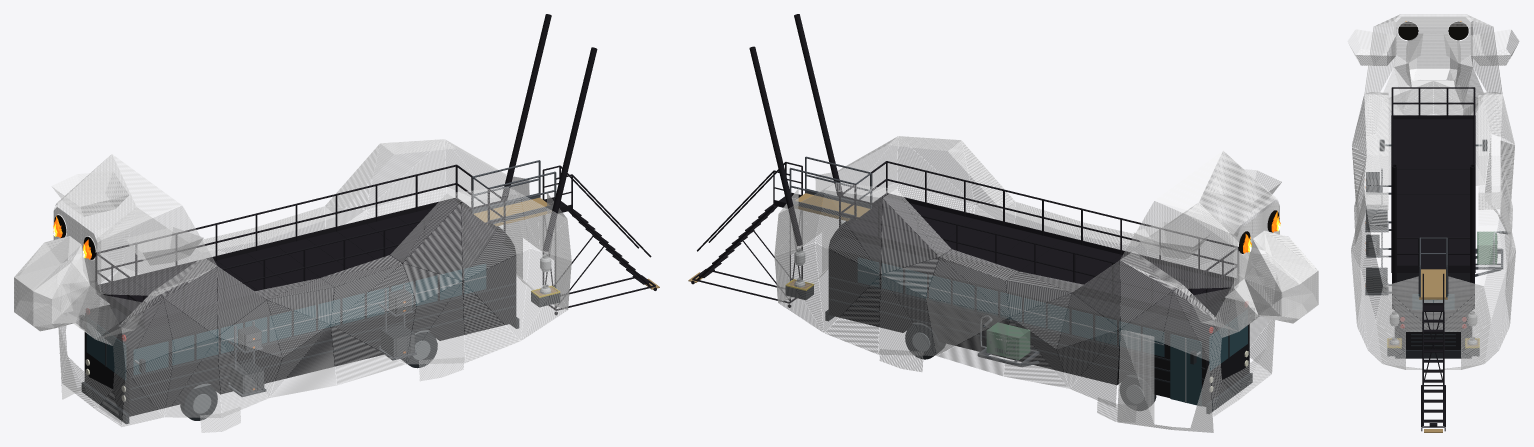
Rendered from baaabs-panelized-v19.glb.
The picture shows the model from 3 angles, left to right: view 1: azimuth 30°, elevation 25°; view 2: azimuth 150°, elevation 25°; view 3: azimuth 270°, elevation 25°; orthographic projection. The views are drawn at different scales.
Parts seen in each view (by area): view 1: Bus__Body_96in_wide, H-D-001 | Driver continuous side, H-C-002 | Center continuous rising crown, H-P-001 | Passenger continuous side, B-D-054 | Driver Skirt 07 b, B-D-050 | Driver Skirt 05 b, B-D-051 | Driver Skirt 06 a, B-D-043 | Driver Skirt 02 a, B-D-038 | Driver Flank 07 b, B-D-036 | Driver Flank 06 b, B-D-053 | Driver Skirt 07 a, B-D-049 | Driver Skirt 05 a (+74 smaller); view 2: Bus__Body_96in_wide, H-P-001 | Passenger continuous side, H-C-002 | Center continuous rising crown, H-D-001 | Driver continuous side, B-P-062 | Passenger Skirt 07 b, B-P-058 | Passenger Skirt 05 b, B-P-059 | Passenger Skirt 06 a, B-P-044 | Passenger Flank 06 b, B-P-046 | Passenger Flank 07 b, B-P-061 | Passenger Skirt 07 a, B-P-057 | Passenger Skirt 05 a, B-P-055 | Passenger Skirt 04 a (+73 smaller); view 3: Bus__Body_96in_wide, H-D-001 | Driver continuous side, H-P-001 | Passenger continuous side, H-C-002 | Center continuous rising crown, Dancefloor_section_04, Bus__Rear_engine_hatch, Dancefloor_section_01, Dancefloor_section_03, Dancefloor_section_02, Dancefloor_section_06, Dancefloor_section_08, B-D-059 | Driver Rear surround 06 a (+112 smaller).
Part boxes in pixels (left/top/right/bottom): Bus__Body_96in_wide: left=84, top=243, right=516, bottom=416; H-D-001 | Driver continuous side: left=101, top=206, right=216, bottom=295; H-C-002 | Center continuous rising crown: left=57, top=154, right=181, bottom=230; H-P-001 | Passenger continuous side: left=55, top=155, right=135, bottom=254; B-D-054 | Driver Skirt 07 b: left=463, top=249, right=529, bottom=340; B-D-050 | Driver Skirt 05 b: left=331, top=305, right=416, bottom=363; B-D-051 | Driver Skirt 06 a: left=406, top=282, right=465, bottom=364; B-D-043 | Driver Skirt 02 a: left=165, top=338, right=221, bottom=417; B-D-038 | Driver Flank 07 b: left=461, top=194, right=519, bottom=279; B-D-036 | Driver Flank 06 b: left=403, top=203, right=462, bottom=280; B-D-053 | Driver Skirt 07 a: left=463, top=282, right=519, bottom=362; B-D-049 | Driver Skirt 05 a: left=331, top=325, right=404, bottom=384; Bus__Body_96in_wide: left=828, top=237, right=1249, bottom=406; H-P-001 | Passenger continuous side: left=1120, top=201, right=1233, bottom=288; H-C-002 | Center continuous rising crown: left=1154, top=151, right=1276, bottom=225; H-D-001 | Driver continuous side: left=1199, top=152, right=1278, bottom=249; B-P-062 | Passenger Skirt 07 b: left=815, top=243, right=880, bottom=332; B-P-058 | Passenger Skirt 05 b: left=925, top=297, right=1008, bottom=355; B-P-059 | Passenger Skirt 06 a: left=878, top=275, right=935, bottom=355; B-P-044 | Passenger Flank 06 b: left=881, top=199, right=938, bottom=273; B-P-046 | Passenger Flank 07 b: left=825, top=190, right=882, bottom=273; B-P-061 | Passenger Skirt 07 a: left=825, top=275, right=880, bottom=354; B-P-057 | Passenger Skirt 05 a: left=937, top=318, right=1009, bottom=375; B-P-055 | Passenger Skirt 04 a: left=1004, top=318, right=1068, bottom=388; Bus__Body_96in_wide: left=1395, top=273, right=1471, bottom=349; H-D-001 | Driver continuous side: left=1364, top=21, right=1393, bottom=93; H-P-001 | Passenger continuous side: left=1473, top=21, right=1502, bottom=93; H-C-002 | Center continuous rising crown: left=1374, top=14, right=1492, bottom=26; Dancefloor_section_04: left=1391, top=156, right=1475, bottom=169; Bus__Rear_engine_hatch: left=1406, top=323, right=1460, bottom=349; Dancefloor_section_01: left=1391, top=119, right=1475, bottom=131; Dancefloor_section_03: left=1391, top=144, right=1475, bottom=156; Dancefloor_section_02: left=1391, top=131, right=1475, bottom=143; Dancefloor_section_06: left=1391, top=181, right=1475, bottom=194; Dancefloor_section_08: left=1391, top=206, right=1475, bottom=219; B-D-059 | Driver Rear surround 06 a: left=1383, top=276, right=1433, bottom=329.
Bounding box in the file's own units: 19.95 × 8.42 × 5.52.
232 materials, 206 textured.
